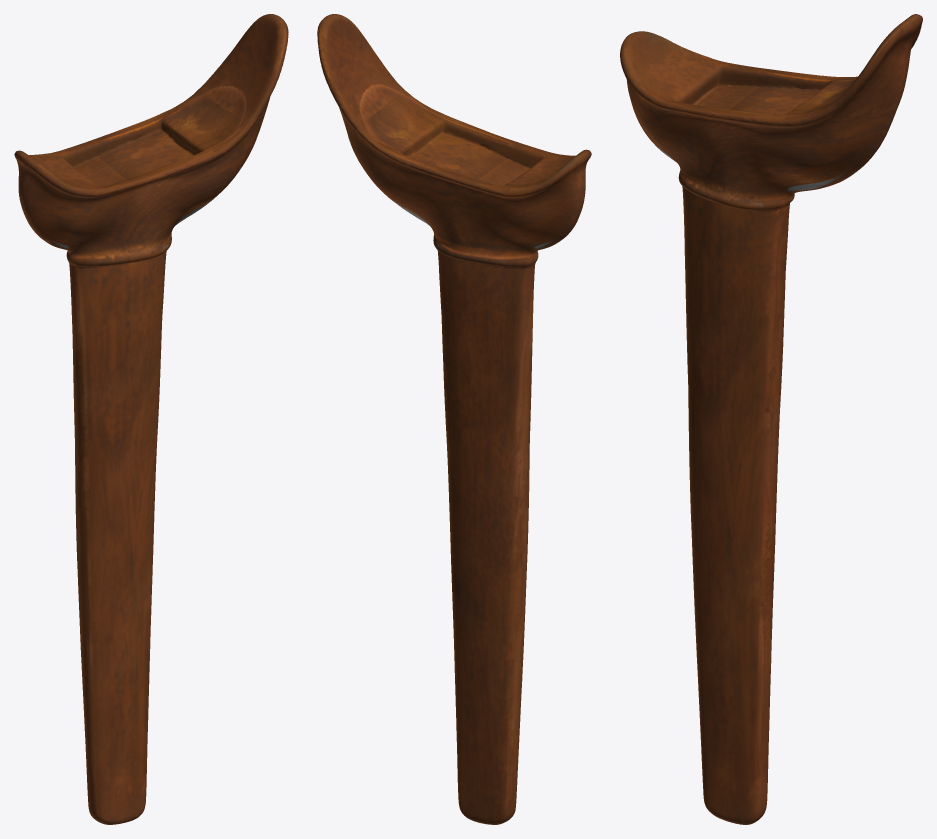
File: warangka-tripo.glb
3 views of the same model, side by side, from view 1: azimuth 30°, elevation 25°; view 2: azimuth 150°, elevation 25°; view 3: azimuth 330°, elevation 25° (orthographic). The views are drawn at different scales.
Parts seen in each view (by area): view 1: tripo_node_278855f1-62f4-4be7-b65d-3c4a0c01c9e0; view 2: tripo_node_278855f1-62f4-4be7-b65d-3c4a0c01c9e0; view 3: tripo_node_278855f1-62f4-4be7-b65d-3c4a0c01c9e0.
Boxes of the visible parts, left/top/right/bottom form: tripo_node_278855f1-62f4-4be7-b65d-3c4a0c01c9e0: left=14, top=14, right=288, bottom=824; tripo_node_278855f1-62f4-4be7-b65d-3c4a0c01c9e0: left=317, top=14, right=591, bottom=824; tripo_node_278855f1-62f4-4be7-b65d-3c4a0c01c9e0: left=620, top=14, right=922, bottom=824.
Bounding box in the file's own units: 0.3568 × 1 × 0.1327.
1 material, 1 textured.
